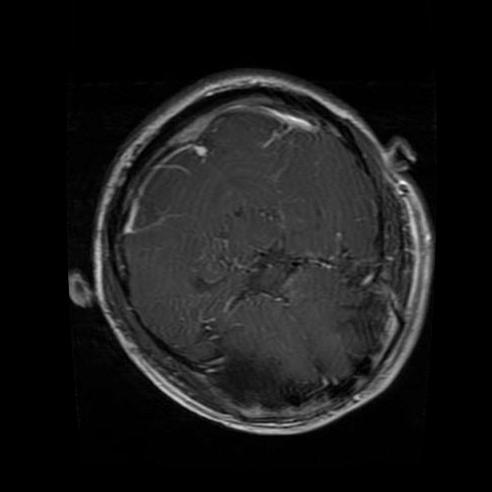Tumour-Glioma: (241, 245, 314, 309)
